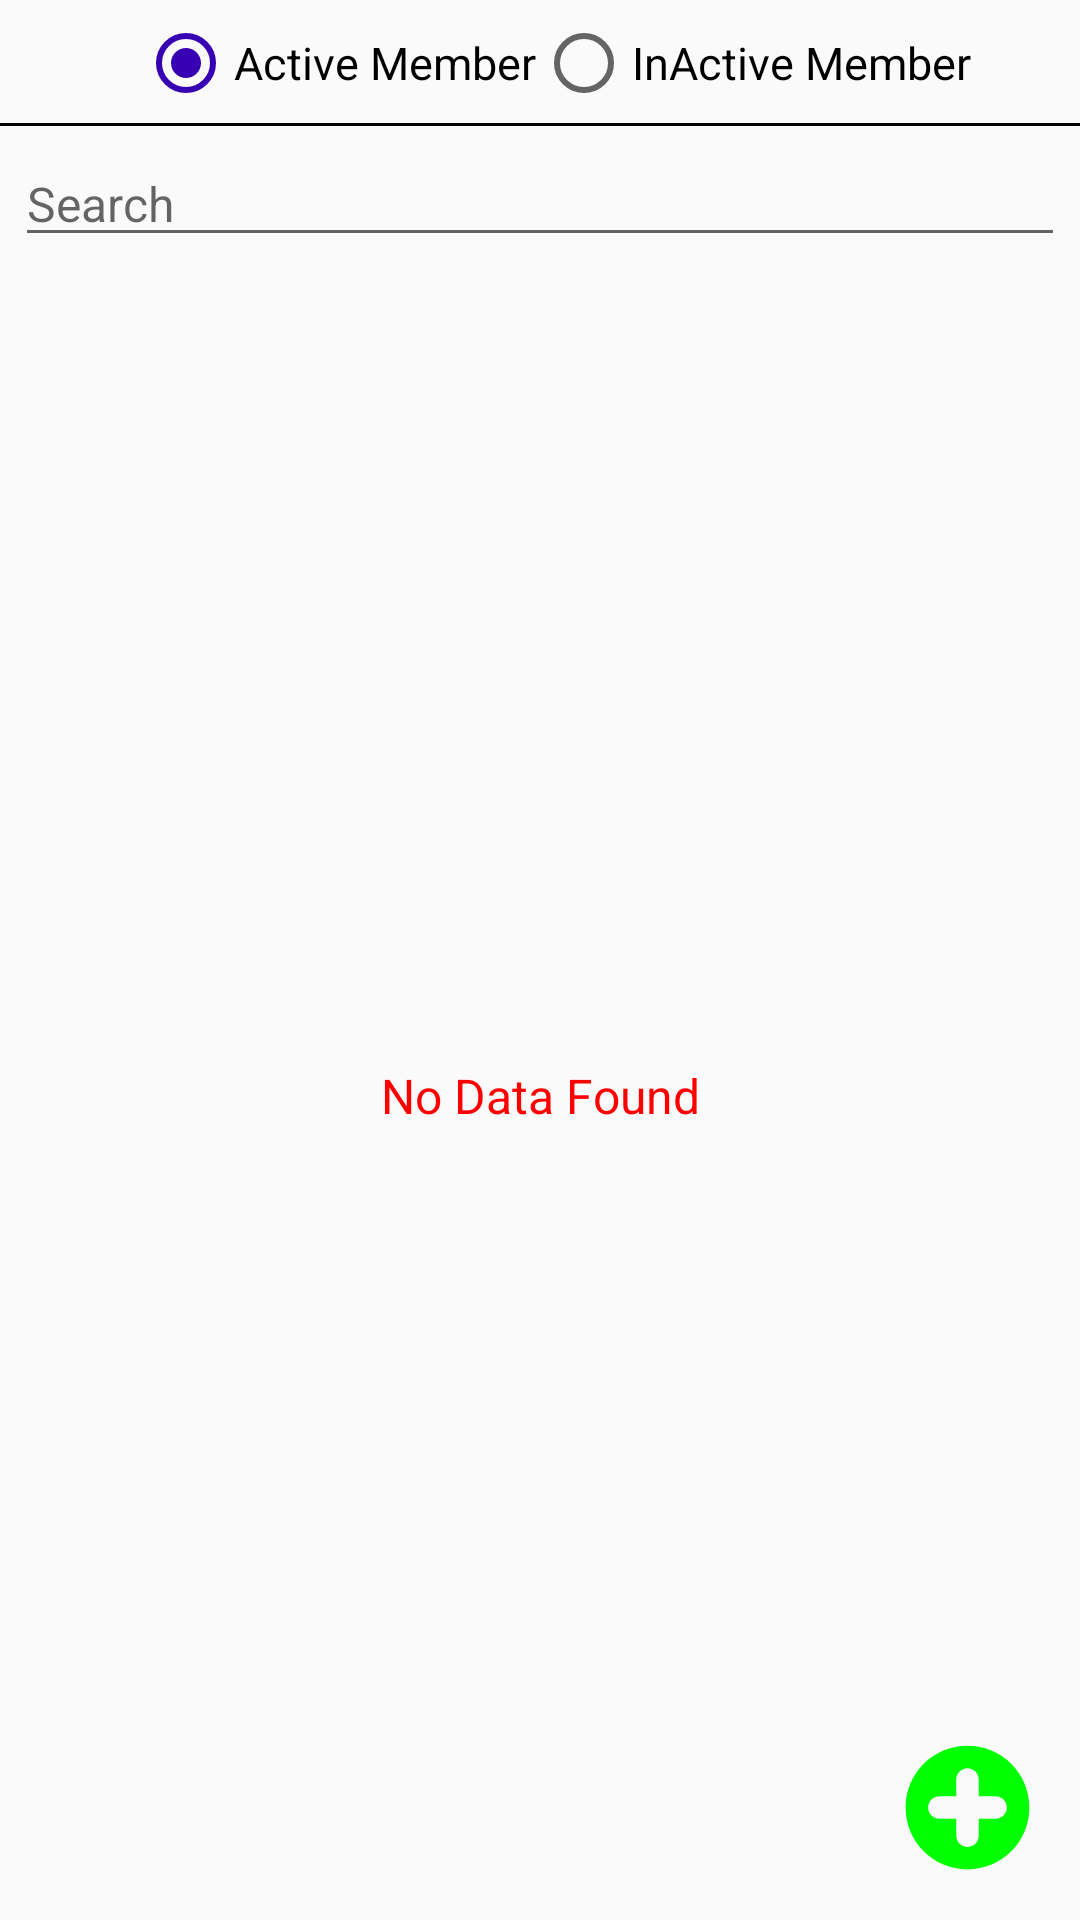

Named icons in this screenshot (1080 x 1920) and their centers, [x,y]:
add member: [967,1807]
